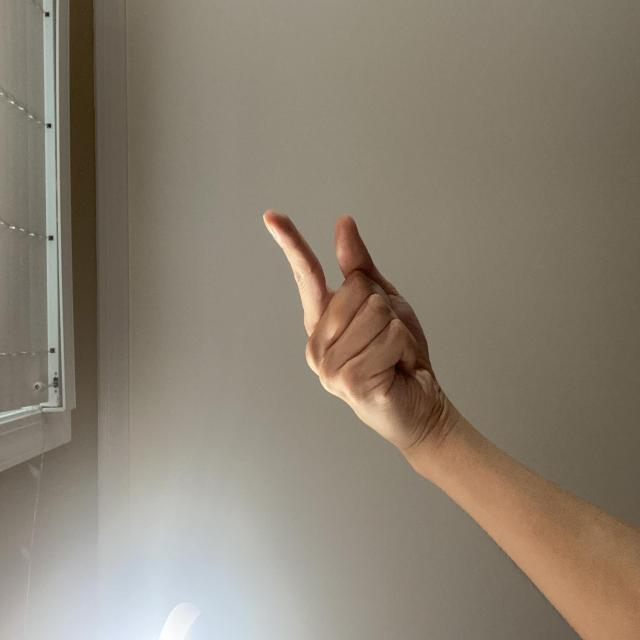G: (128, 340, 331, 608)
